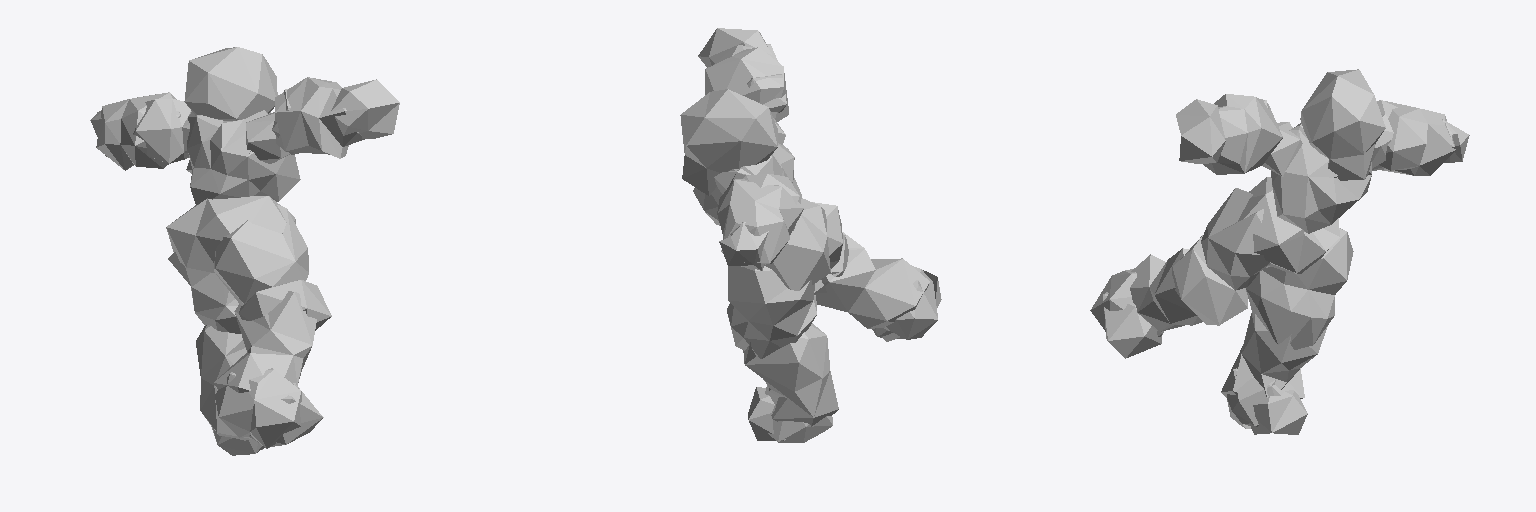
The model's file is dance_frames0345.obj.
The picture shows the model from 3 angles: view 1: azimuth 30°, elevation 25°; view 2: azimuth 150°, elevation 25°; view 3: azimuth 270°, elevation 25°; orthographic projection.
Visible parts, largest first — view 1: Beta_Surface; view 2: Beta_Surface; view 3: Beta_Surface.
Boxes of the visible parts, box(x1,y1,x2,y2) form: Beta_Surface: box(90, 47, 399, 455); Beta_Surface: box(680, 28, 941, 442); Beta_Surface: box(1090, 69, 1469, 434).
Size of the model in its own units: 1.17 by 1.99 by 1.85.